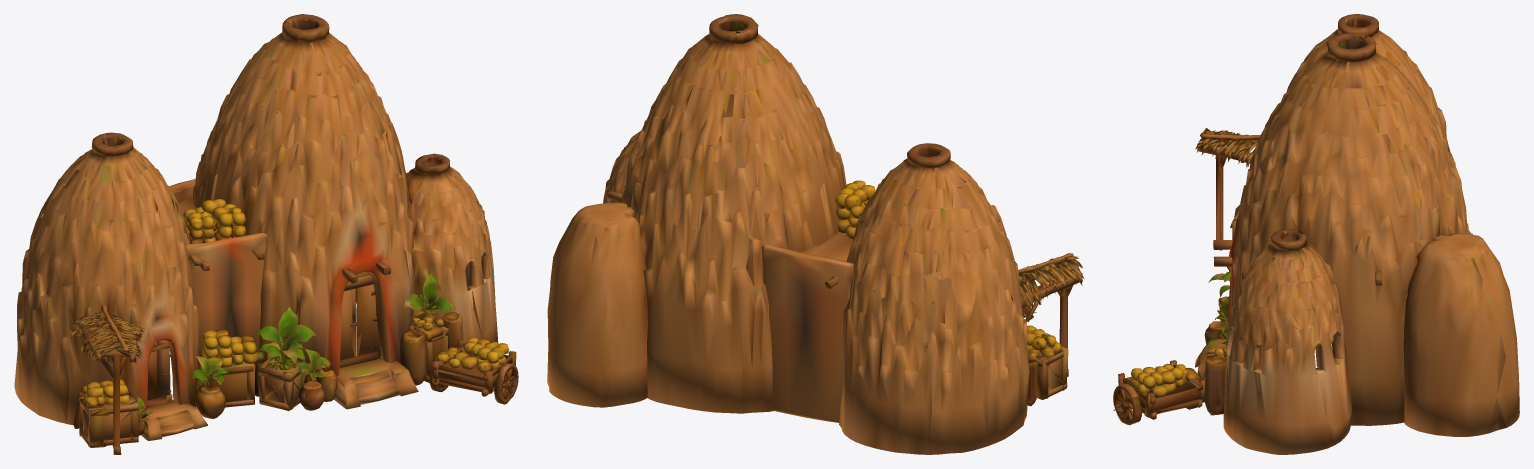
The model's file is preview.glb.
3 views of the same model, side by side, from view 1: azimuth 30°, elevation 25°; view 2: azimuth 150°, elevation 25°; view 3: azimuth 270°, elevation 25° (orthographic). The views are drawn at different scales.
Parts seen in each view (by area): view 1: Mesh_0; view 2: Mesh_0; view 3: Mesh_0.
Boxes of the visible parts, bbox=[...] form: Mesh_0: bbox=[14, 14, 518, 454]; Mesh_0: bbox=[547, 14, 1084, 454]; Mesh_0: bbox=[1113, 14, 1519, 454].
Bounding box in the file's own units: 7.51 × 5.39 × 5.91.
